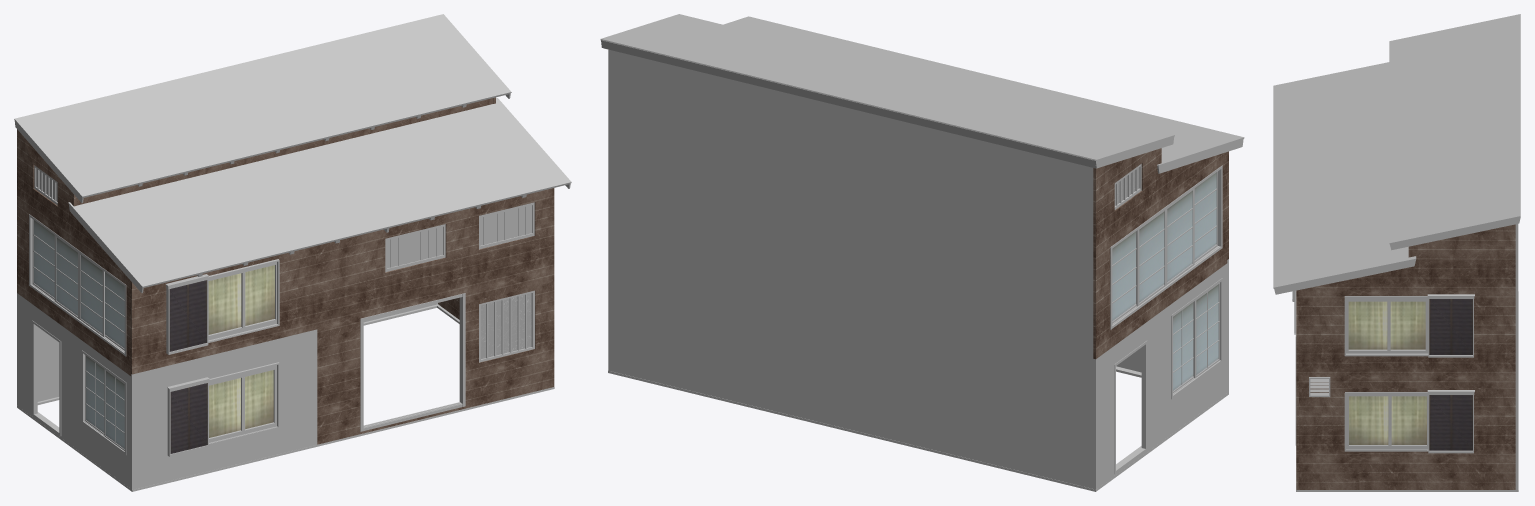
File: JpHouse_30a.fbx
3 views of the same model, side by side, from view 1: azimuth 30°, elevation 25°; view 2: azimuth 150°, elevation 25°; view 3: azimuth 270°, elevation 25° (orthographic). The views are drawn at different scales.
Parts seen in each view (by area): view 1: JpHouse_30a; view 2: JpHouse_30a; view 3: JpHouse_30a.
Boxes of the visible parts, x1,y1,x2,y2 form: JpHouse_30a: (14, 14, 571, 491); JpHouse_30a: (600, 14, 1244, 491); JpHouse_30a: (1273, 14, 1520, 491).
Bounding box in the file's own units: 9.15 × 5.88 × 4.74.
